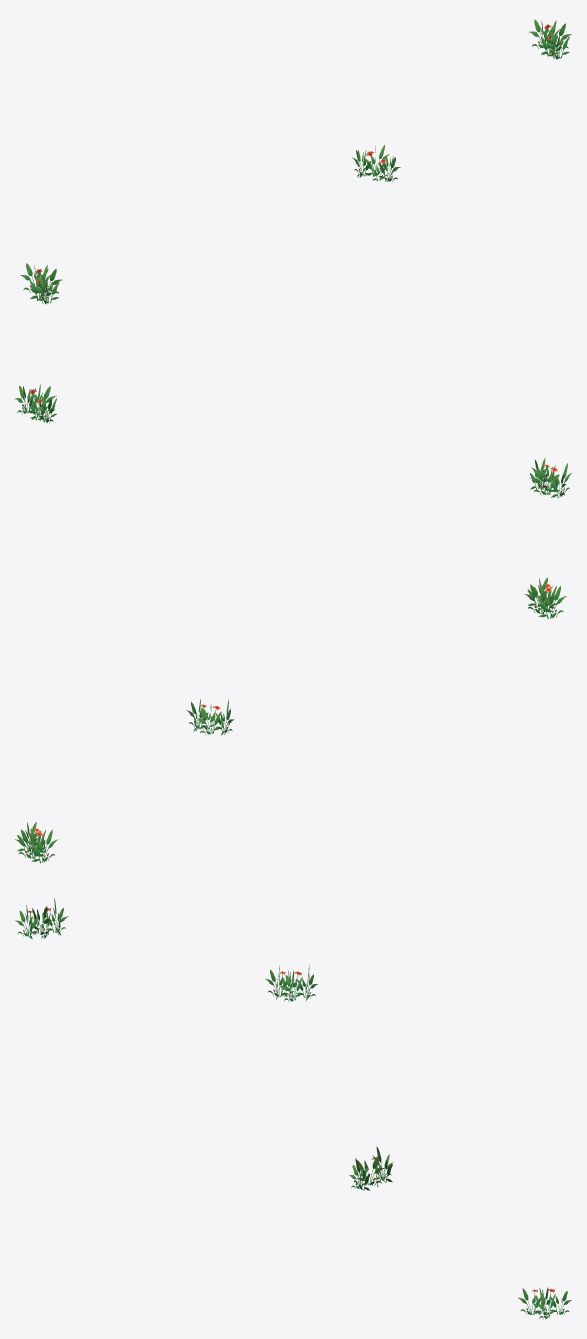
File: area_02_12.fbx
The picture shows the model from 3 angles, top to bottom: view 1: azimuth 30°, elevation 25°; view 2: azimuth 210°, elevation 25°; view 3: azimuth 270°, elevation 25°; orthographic projection. The views are drawn at different scales.
Visible parts, largest first — view 1: area_02_12; view 2: area_02_12; view 3: area_02_12.
Part boxes in pixels (bbox=[...]): area_02_12: bbox=[14, 19, 571, 423]; area_02_12: bbox=[15, 458, 571, 863]; area_02_12: bbox=[15, 898, 571, 1319].
Size of the model in its own units: 40.83 by 1.55 by 24.2.
